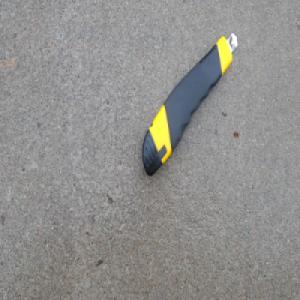Cutter: (141, 31, 238, 179)
